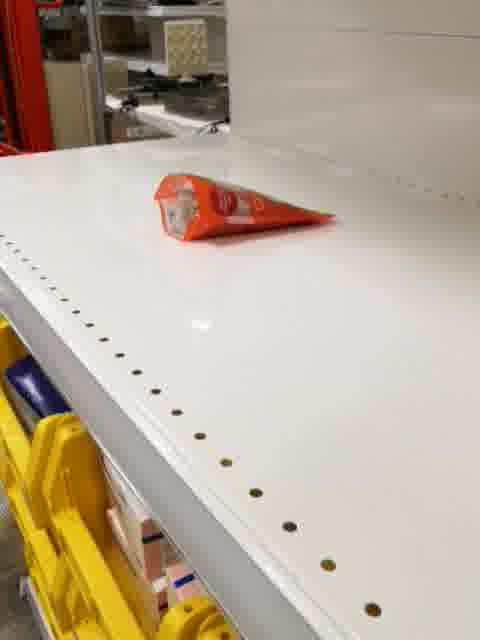whitechia: (153, 172, 338, 243)
